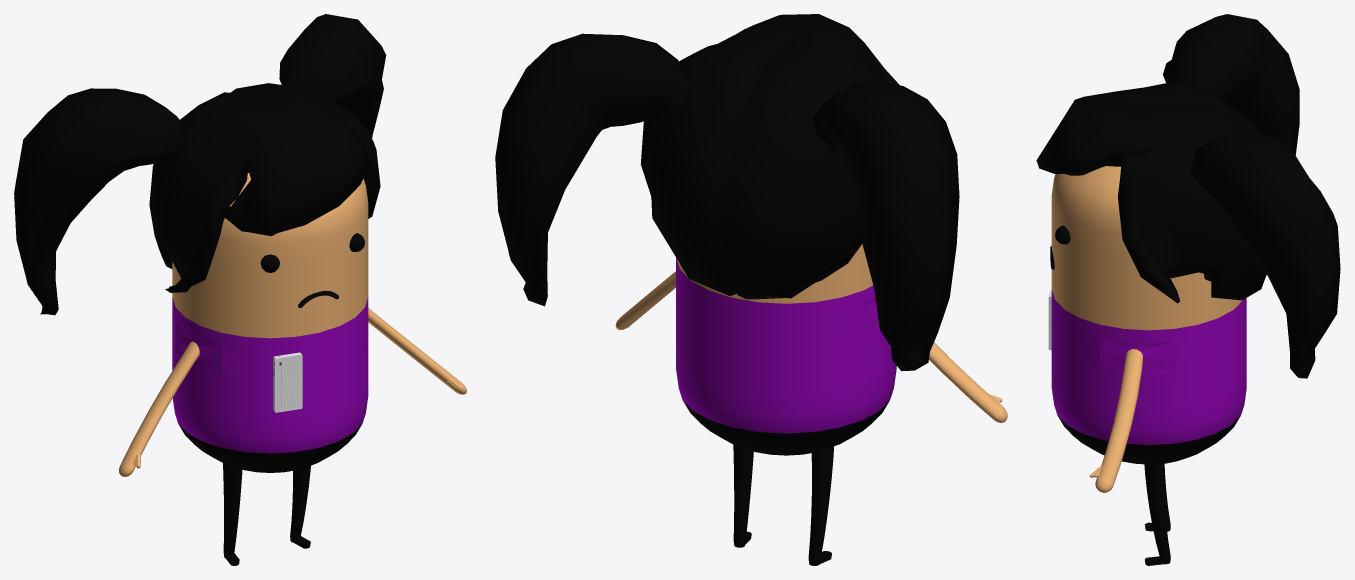
Rendered from Mujer.fbx.
3 renders of one model, left to right at view 1: azimuth 30°, elevation 25°; view 2: azimuth 150°, elevation 25°; view 3: azimuth 270°, elevation 25°, orthographic. The views are drawn at different scales.
Visible parts, largest first — view 1: Mesh2; view 2: Mesh2; view 3: Mesh2.
Part boxes in pixels (<box>): Mesh2: <box>14,14,466,565</box>; Mesh2: <box>495,14,1007,565</box>; Mesh2: <box>1036,14,1340,565</box>.
Bounding box in the file's own units: 1.54 × 1.79 × 1.07.
Materials: 7 (4 with a texture image).
